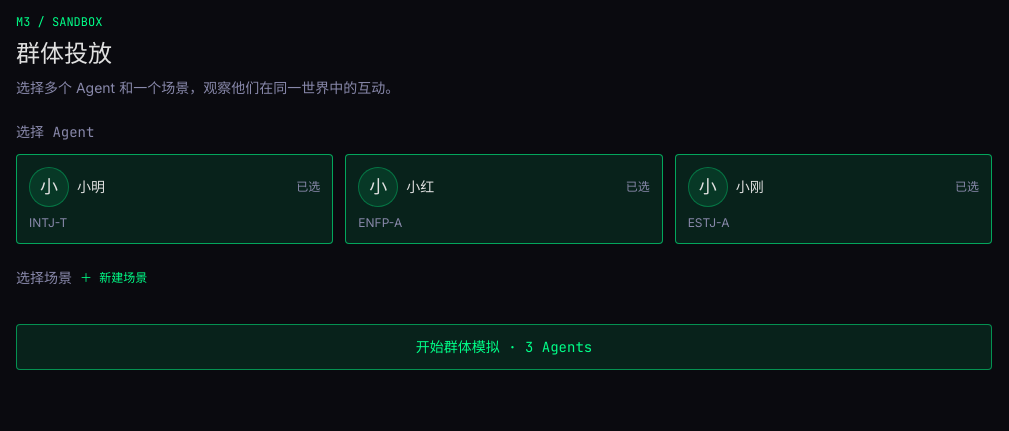
Test case: Step 33 GroupSandbox › shows a useful startup error
Click the button "开始群体模拟 · 3 Agents" at (504, 347), box [16,324,992,370]
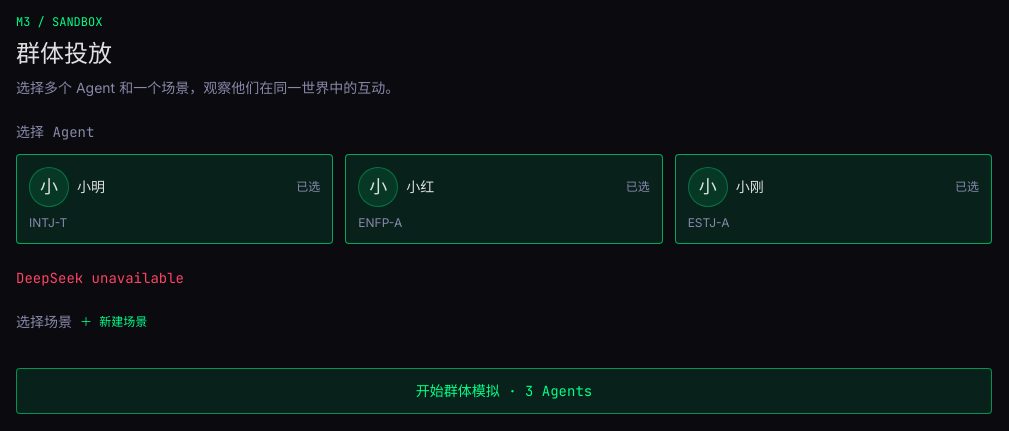
Expected: the message reads "DeepSeek unavailable", [16,269,184,287]
